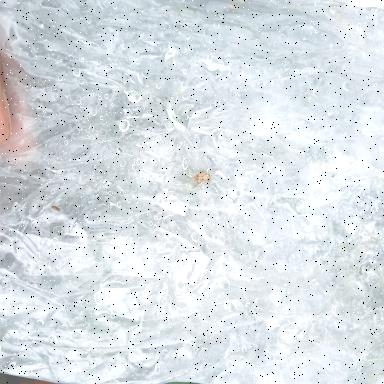pbw: (183, 173, 211, 183)
